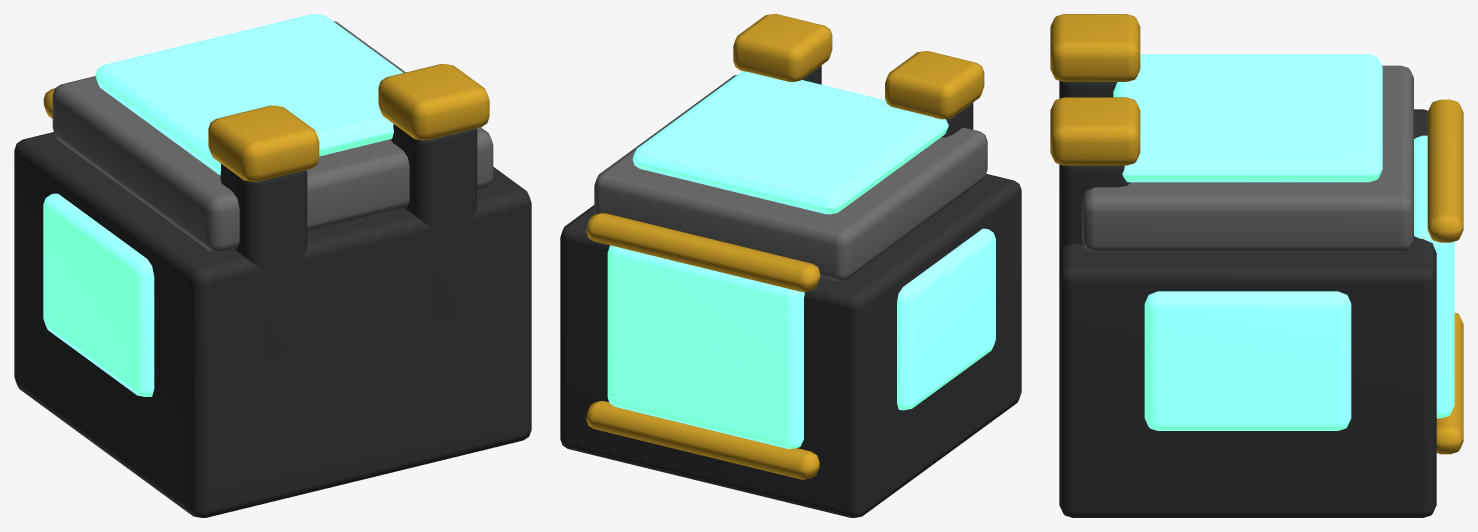
File: engine-mk2.glb
3 renders of one model, left to right at view 1: azimuth 30°, elevation 25°; view 2: azimuth 150°, elevation 25°; view 3: azimuth 270°, elevation 25°, orthographic. The views are drawn at different scales.
Parts seen in each view (by area): view 1: engine-mk2; view 2: engine-mk2; view 3: engine-mk2.
Part boxes in pixels (x1,y1,x2,y2): engine-mk2: (14, 14, 531, 517); engine-mk2: (560, 14, 1021, 517); engine-mk2: (1050, 14, 1463, 517).
Size of the model in its own units: 0.95 by 0.91 by 0.92.
